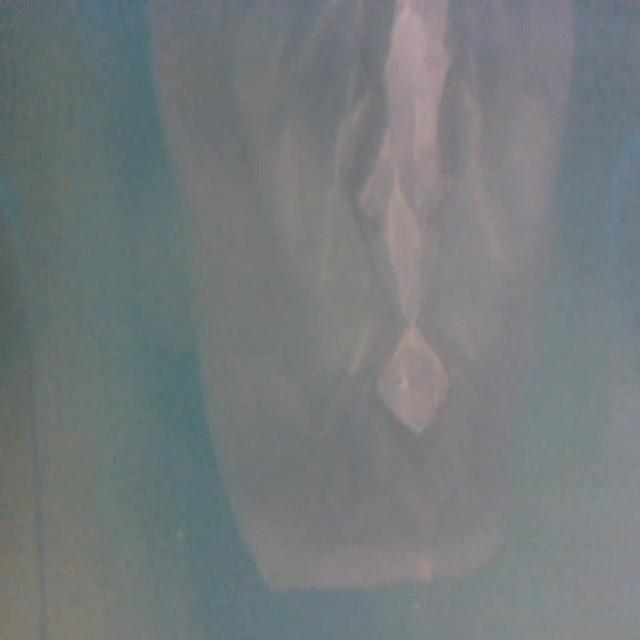plastic bags: (147, 0, 416, 640)
